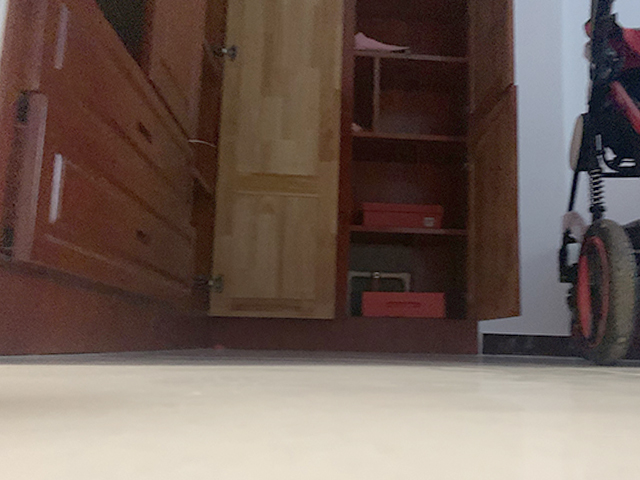cabinet: (210, 1, 521, 358), (1, 1, 212, 343)
